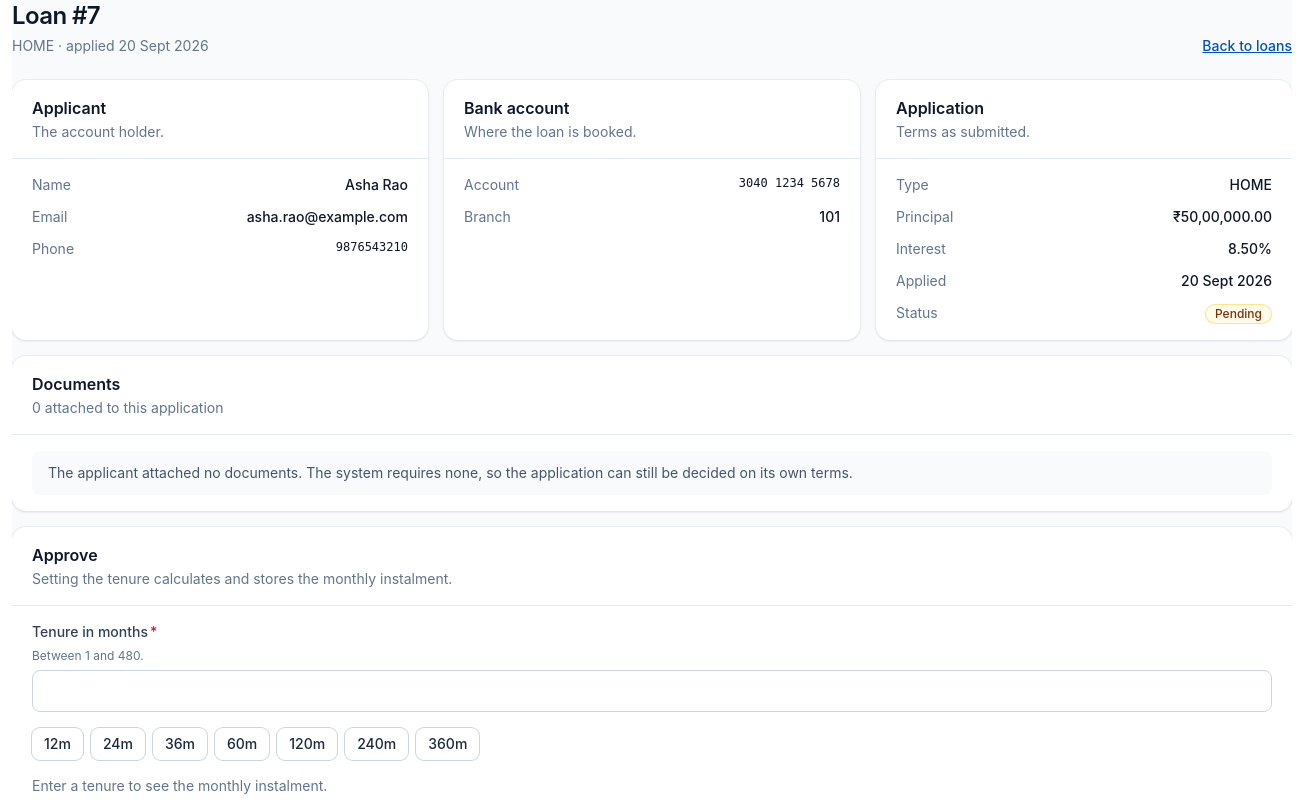
Test case: LoanDetailPage › approval › puts a server-side tenure error on the field
This screenshot has width=1304, height=800.
Expected: the text "Asha Rao" is shown, [345,175,408,195]
Type "240" into the number field labelled "Tenure in months*" at (652, 691), box [32,670,1272,712]
(page scrolled)
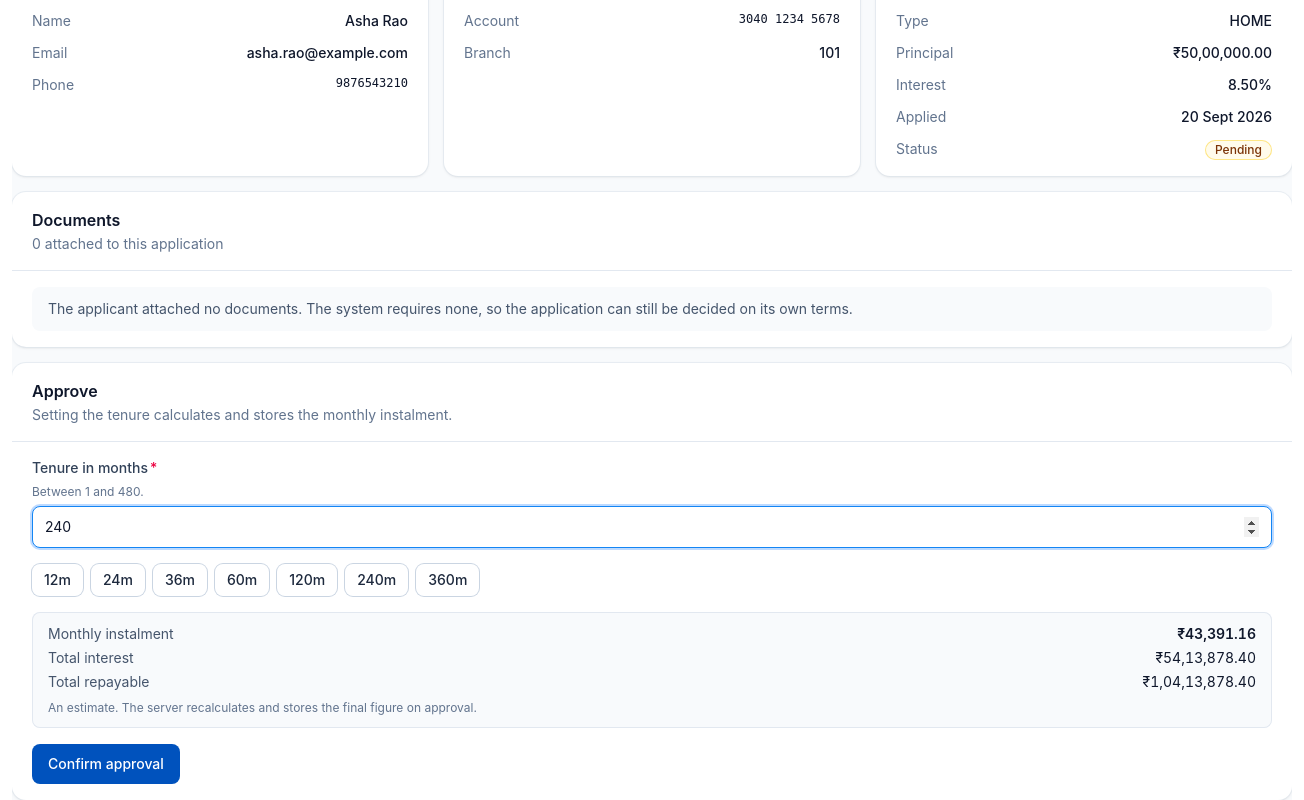
Click the button "Confirm approval" at (106, 764), box [32,744,180,784]
(page scrolled)
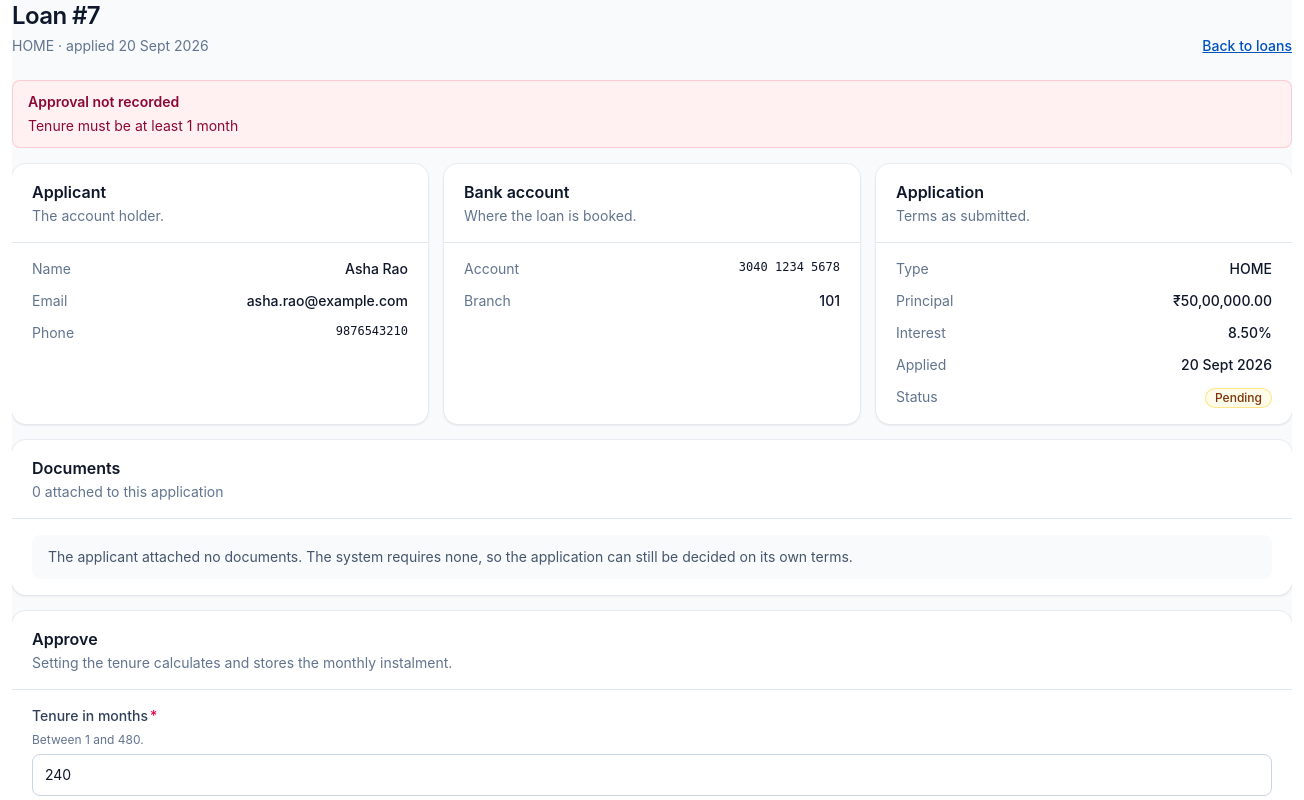
Now the text "Tenure must be at least 1 month" is shown, box [28,117,238,134]
